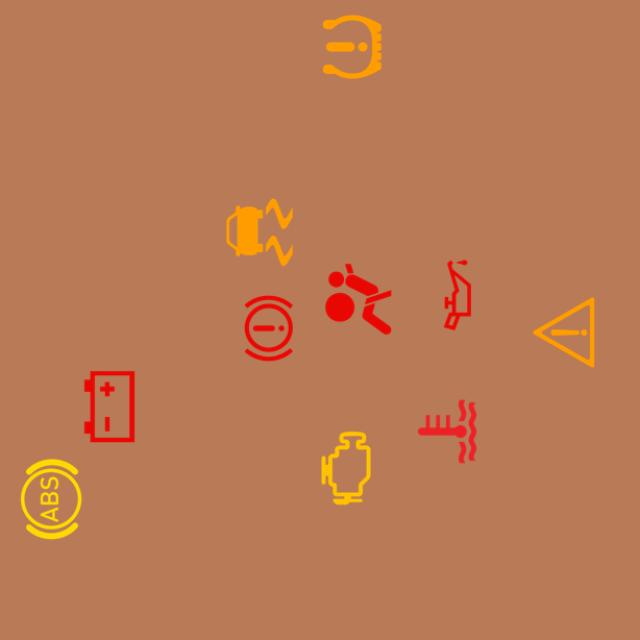Anti Lock Braking System: (7, 456, 95, 543)
Braking System Issue: (225, 285, 313, 372)
Charging System Issue: (66, 363, 153, 450)
Check Engine: (302, 424, 390, 512)
Electronic Stability Problem -ESP-: (216, 189, 303, 276)
Engine Overheating Warning Light: (403, 388, 491, 475)
Low Engine Oil Warning Light: (414, 251, 501, 339)
Low Tire Pressure Warning Light: (309, 3, 396, 91)
Master warning light: (520, 289, 608, 376)
SRS-Airbag: (315, 255, 402, 343)
